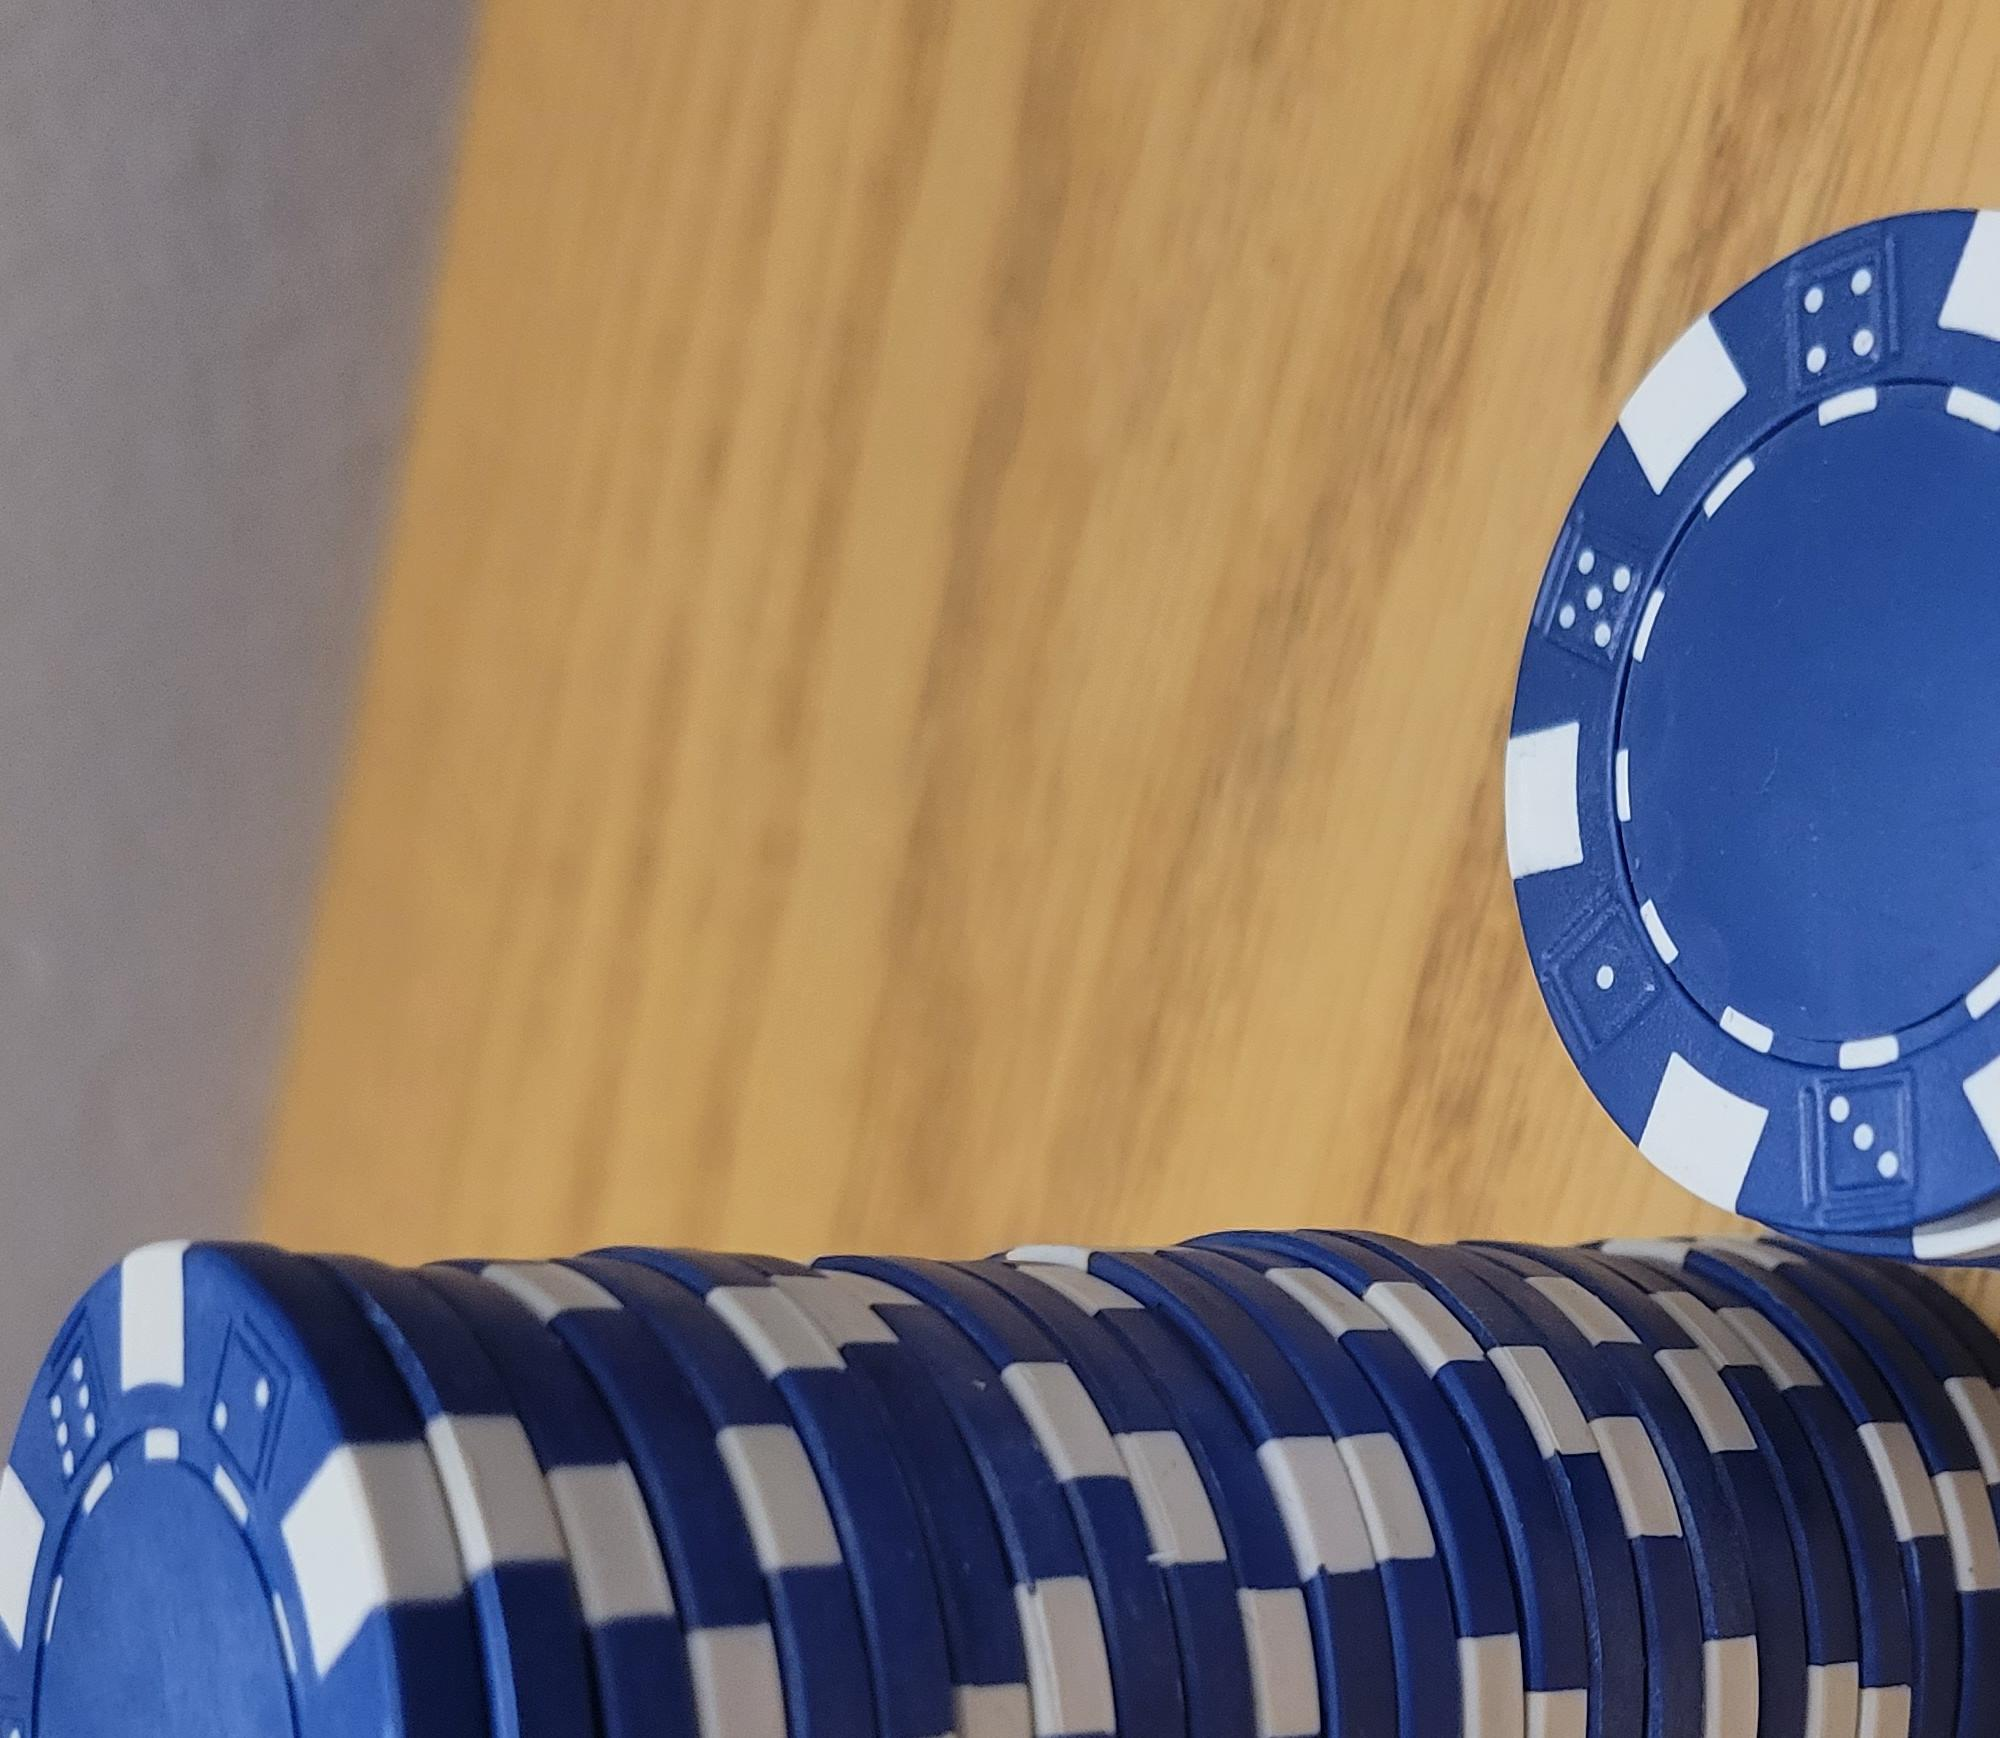Chip: (2, 71, 1406, 1738)
